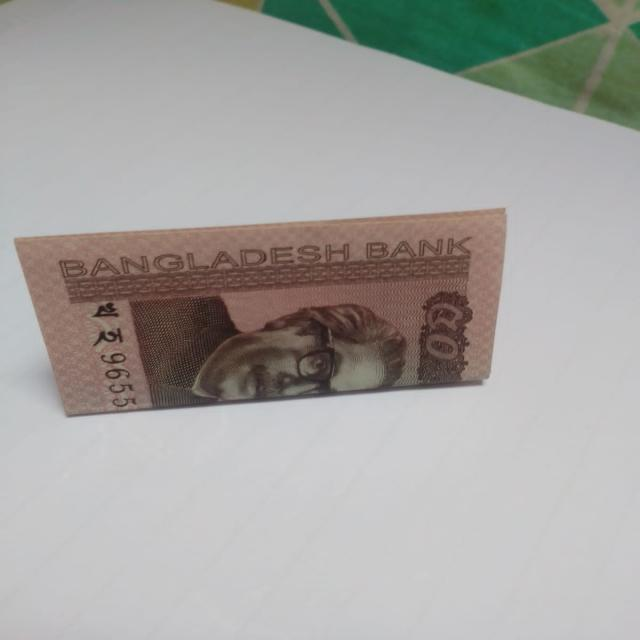Taka: (16, 208, 521, 410)
